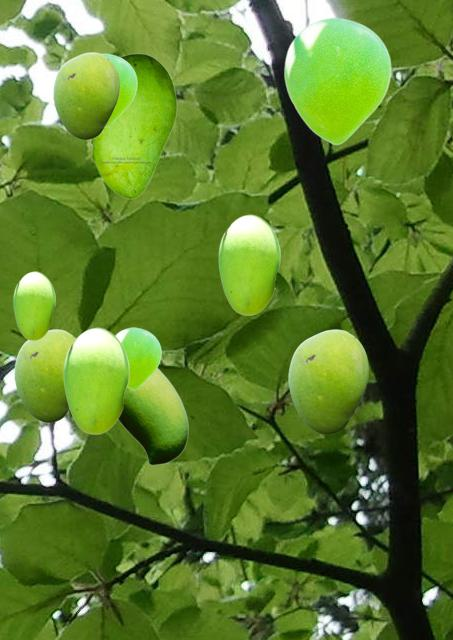green_mango: (284, 17, 390, 144), (90, 53, 176, 198), (288, 329, 367, 433), (63, 327, 128, 433), (118, 368, 187, 464), (218, 214, 279, 314), (14, 329, 75, 421), (53, 52, 118, 138), (115, 327, 160, 389), (13, 271, 54, 339), (102, 53, 136, 126)
